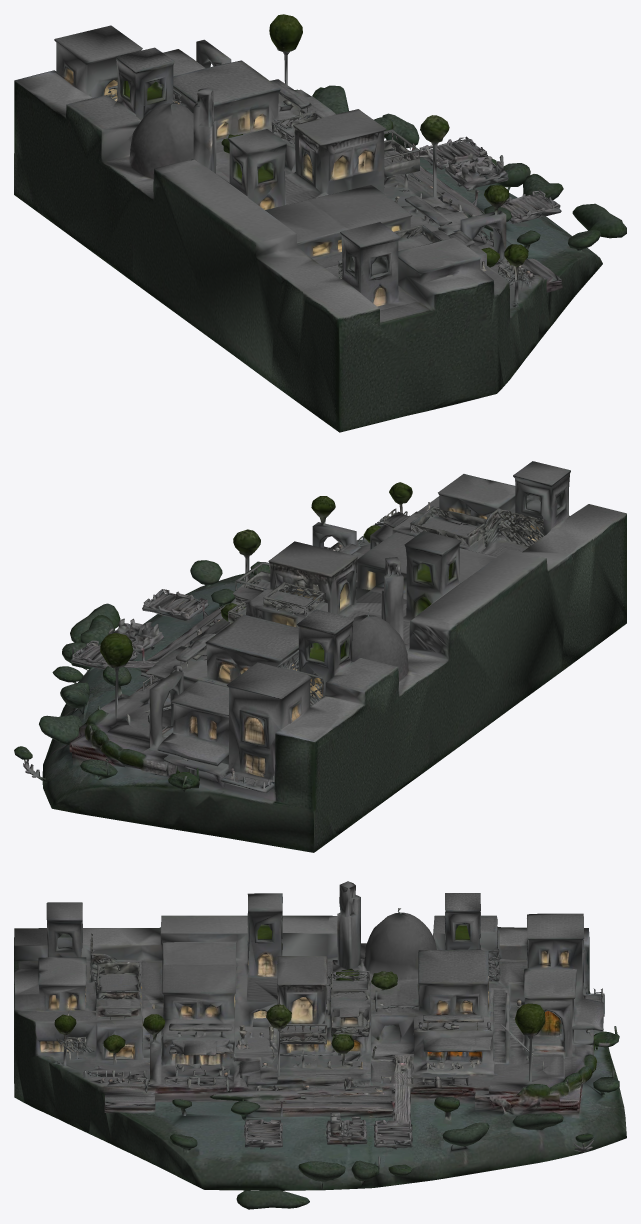
Rendered from diorama_lod1.glb.
3 views of the same model, one above another, from view 1: azimuth 30°, elevation 25°; view 2: azimuth 150°, elevation 25°; view 3: azimuth 270°, elevation 25° (orthographic). The views are drawn at different scales.
Visible parts, largest first — view 1: tripo_node_d4d403ca-c68f-4391-b229-f40cb69f2f81; view 2: tripo_node_d4d403ca-c68f-4391-b229-f40cb69f2f81; view 3: tripo_node_d4d403ca-c68f-4391-b229-f40cb69f2f81.
Part boxes in pixels (bbox=[...]): tripo_node_d4d403ca-c68f-4391-b229-f40cb69f2f81: bbox=[14, 14, 626, 432]; tripo_node_d4d403ca-c68f-4391-b229-f40cb69f2f81: bbox=[14, 461, 626, 852]; tripo_node_d4d403ca-c68f-4391-b229-f40cb69f2f81: bbox=[14, 881, 626, 1209].
Size of the model in its own units: 57.39 by 24.96 by 81.71.
1 material, 1 textured.
